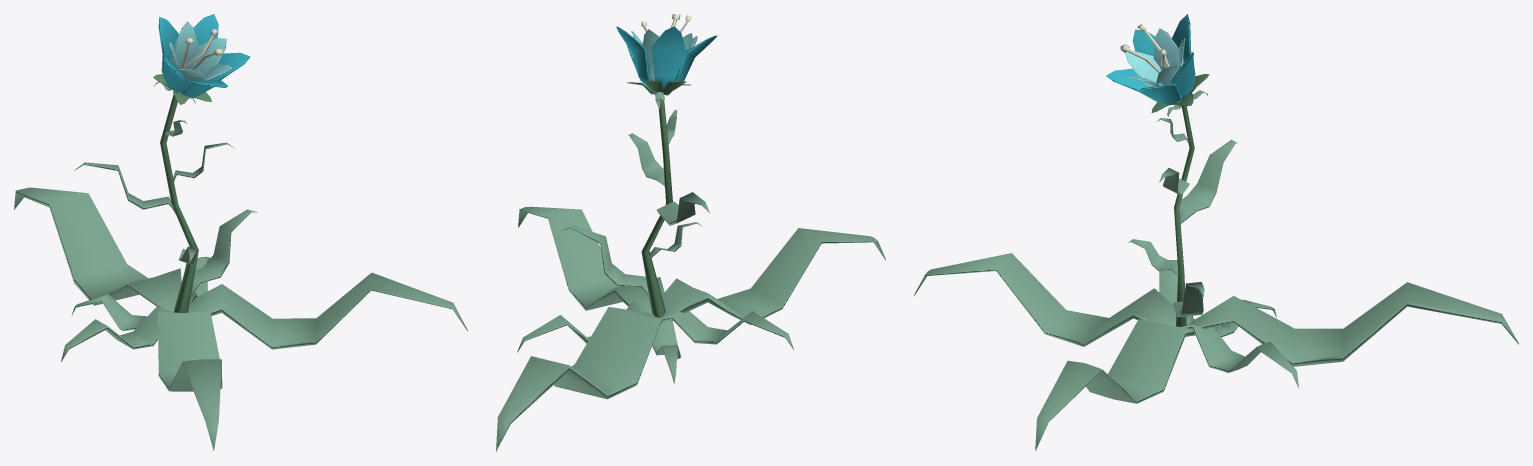
File: Mesh_CropSpirit_Stage3.fbx
3 views of the same model, side by side, from view 1: azimuth 30°, elevation 25°; view 2: azimuth 150°, elevation 25°; view 3: azimuth 270°, elevation 25° (orthographic). The views are drawn at different scales.
Visible parts, largest first — view 1: spiritplant_stage3; view 2: spiritplant_stage3; view 3: spiritplant_stage3.
Part boxes in pixels (x1,y1,x2,y2): spiritplant_stage3: [14, 14, 467, 451]; spiritplant_stage3: [496, 14, 885, 451]; spiritplant_stage3: [914, 14, 1518, 451].
Bounding box in the file's own units: 31.33 × 47.02 × 28.18.
